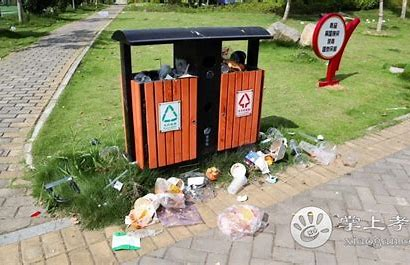garbage: (121, 172, 222, 225), (239, 136, 337, 180), (216, 199, 275, 239), (126, 57, 199, 83), (217, 159, 253, 194), (109, 228, 146, 254), (218, 47, 260, 69)
